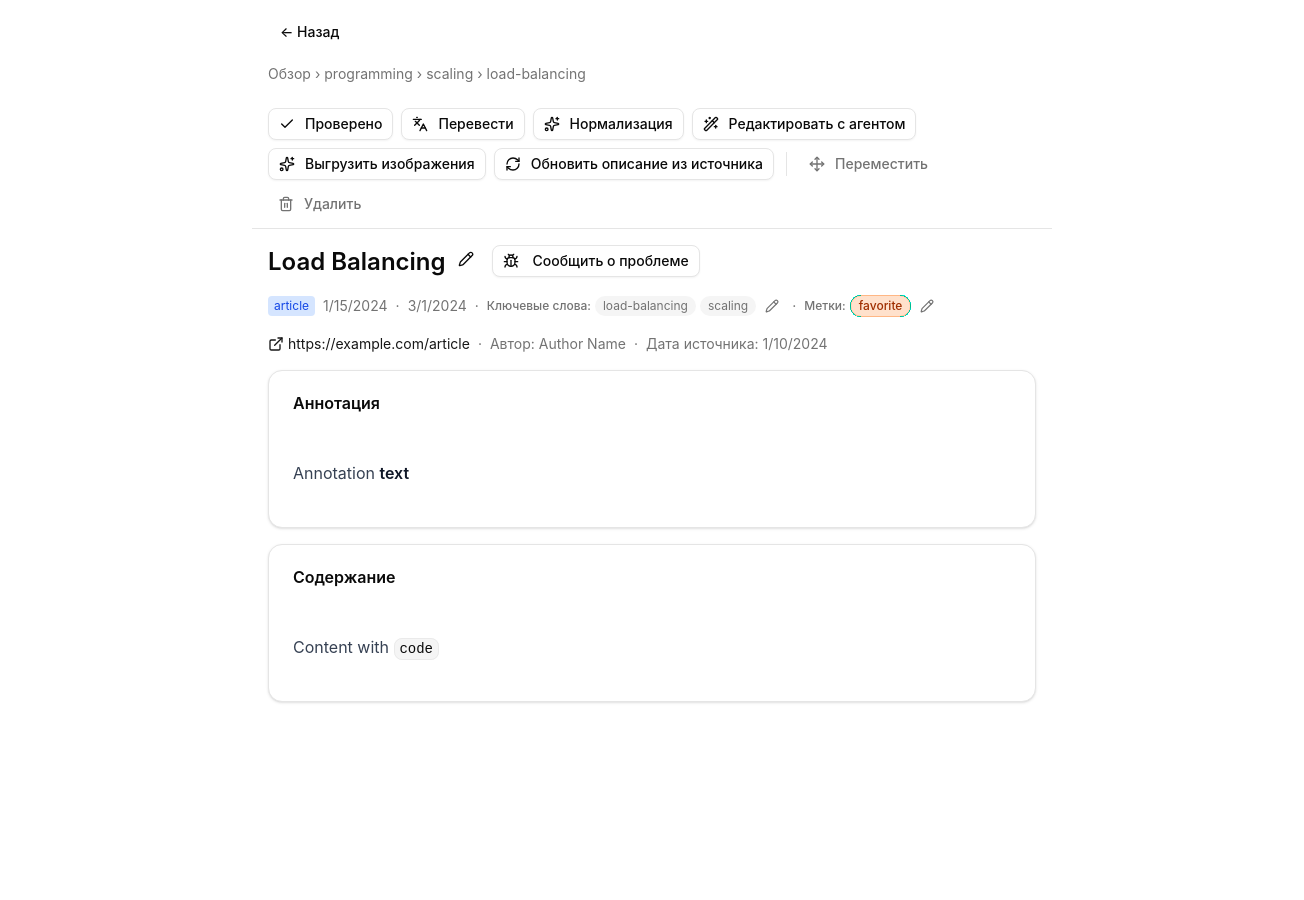
NodePage › runs dump images and shows success
The width and height of the screenshot is (1304, 900).
Click the button "Выгрузить изображения": point(377, 164) [268,148,486,180]
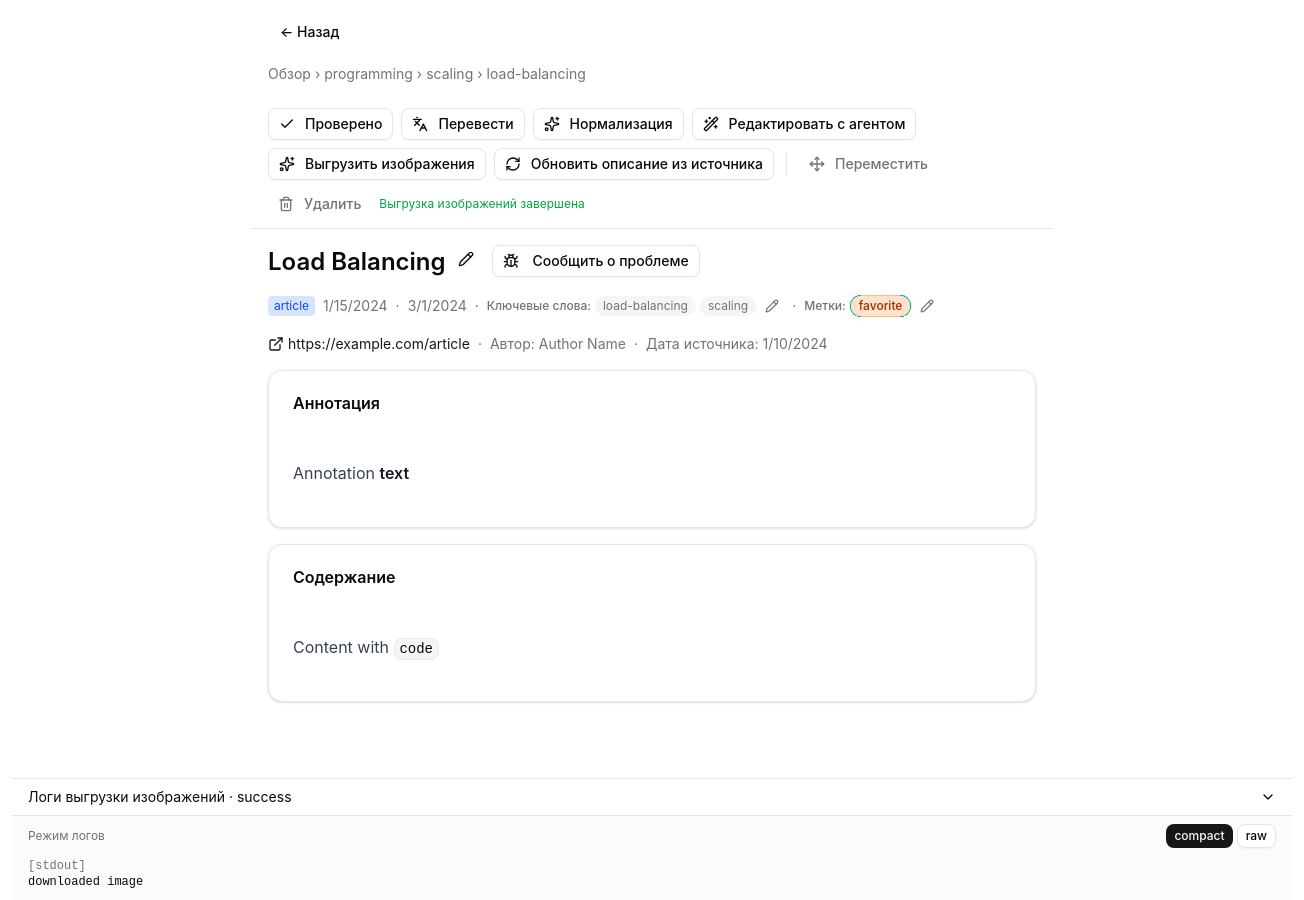
Now the text "Логи выгрузки изображений · success" is shown, box [28,787,292,807]
Now the text "downloaded image" is shown, box [28,875,143,889]
Now the text "Выгрузка изображений завершена" is shown, box [379,196,585,212]
